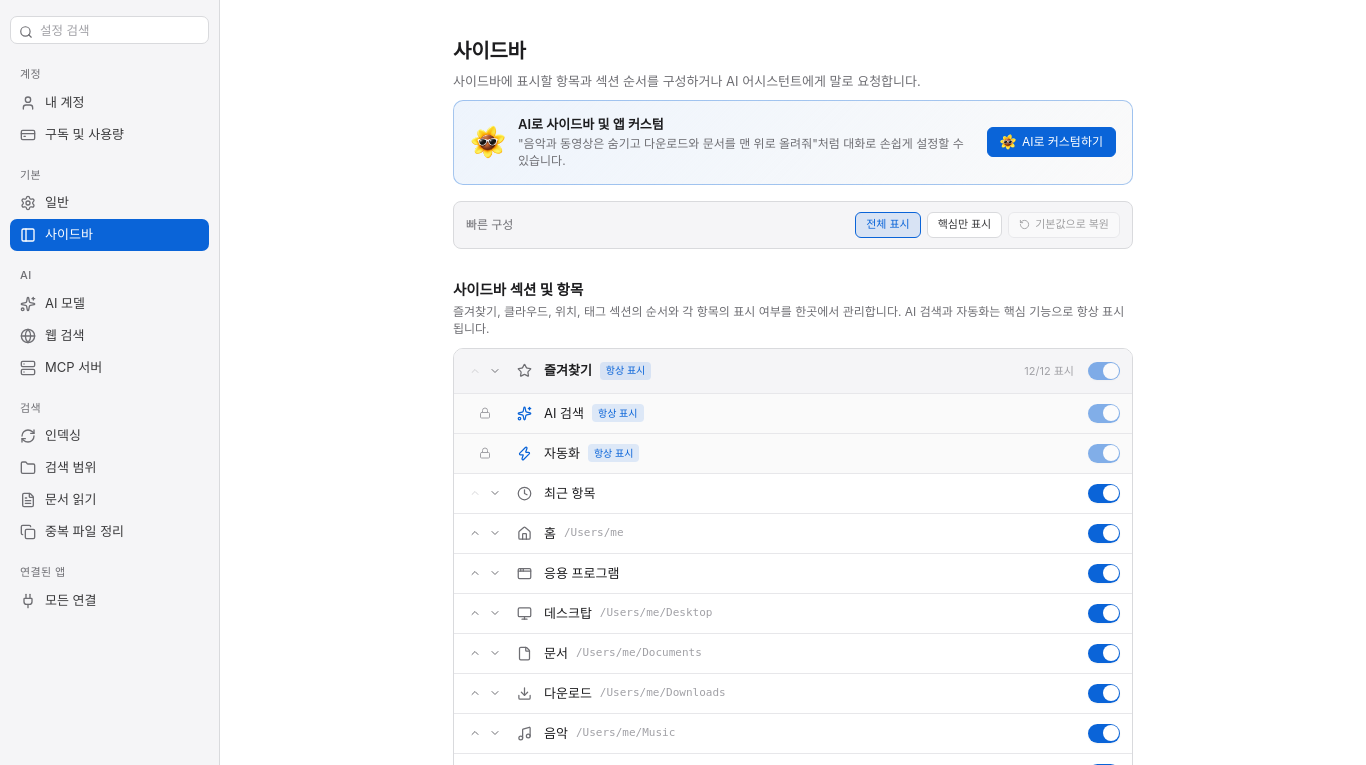
Test: Settings → 사이드바 (Sidebar customization & AI Customizer modal) › renders all 4 sidebar sections inside one unified .sidebar-sections-stack and uses the transparent Dazzi sunflower mark on AI surfaces
Expected: the switch named "AI 검색" is shown, [1088,404,1120,423]
Expected: the switch named "자동화" is shown, [1088,444,1120,463]
Click the button "AI로 커스텀하기" at (1051, 142), box [987,127,1116,157]
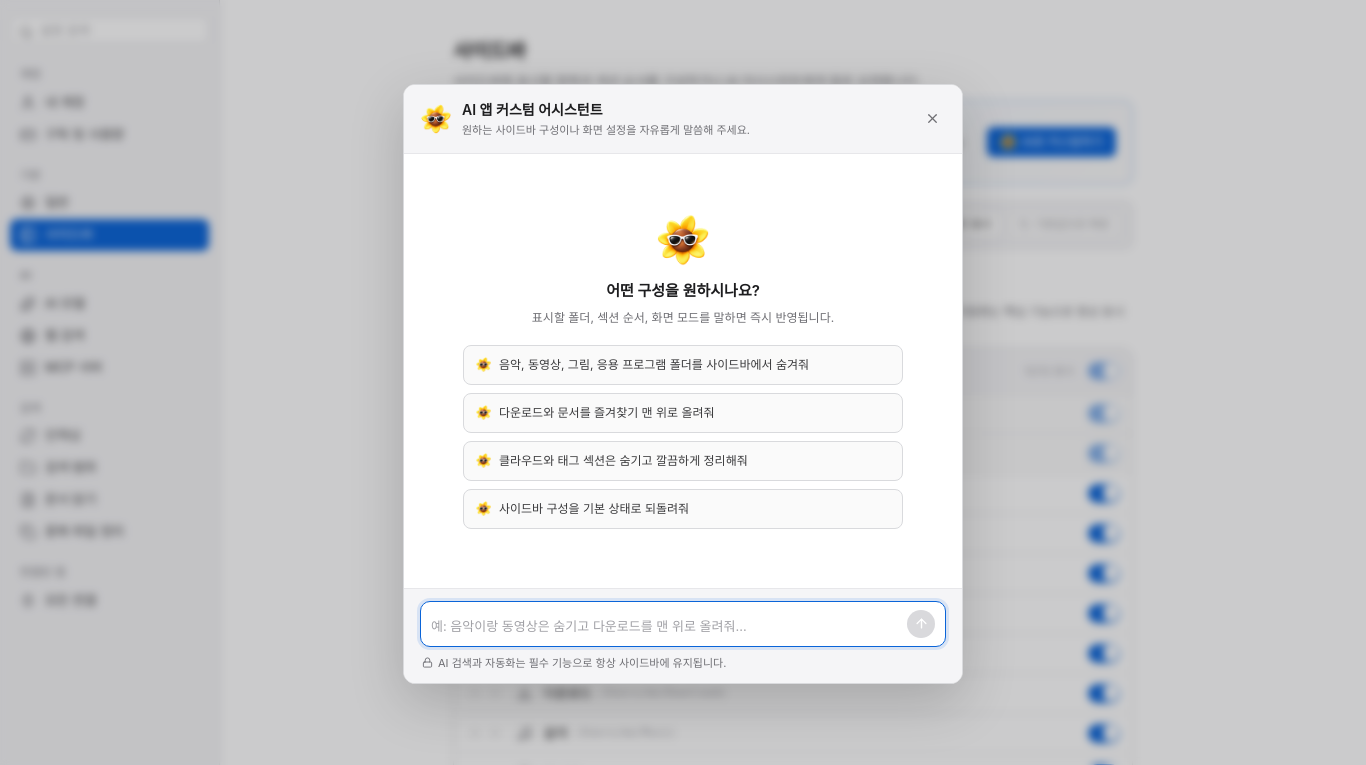
Result: the picture with class "customizer-modal__logo" is shown at [421,104,451,134]
Result: the picture with class "customizer-modal__empty-logo" is shown at [657,214,709,266]
Result: the number of pictures with class "customizer-suggestion-chip__logo" is 4 at [476,357,491,372]; [476,405,491,420]; [476,453,491,468]; [476,501,491,516]
